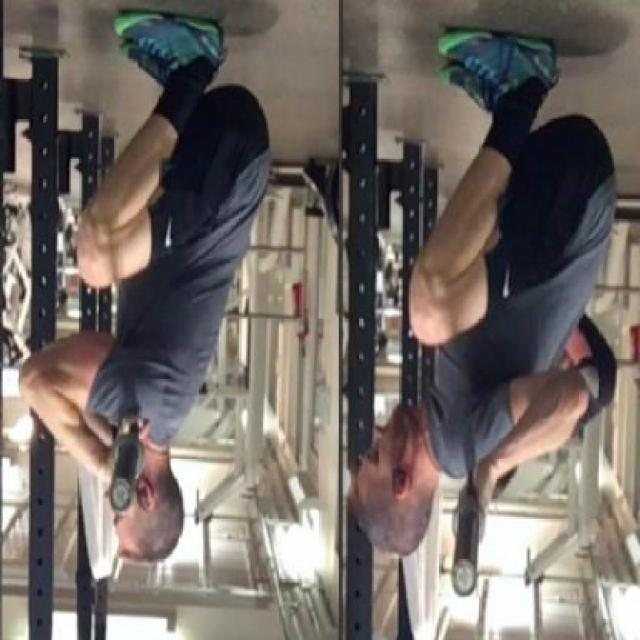Barbell: (449, 554, 480, 604), (106, 473, 134, 516)
